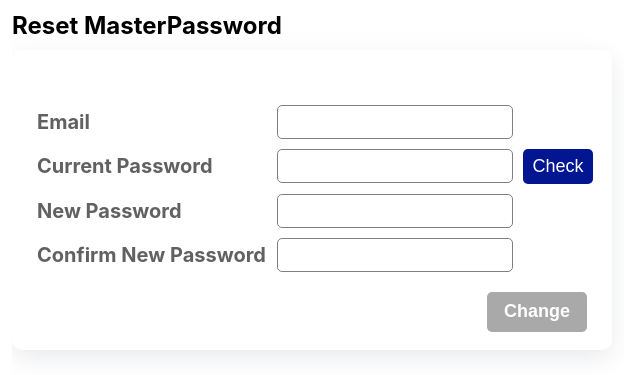
Test: <MasterPassword /> › Fail message should show when currentPassword is not confirmed
Type "test@test.com" into the field in the row of "Email" at (395, 122), box [277,105,513,139]
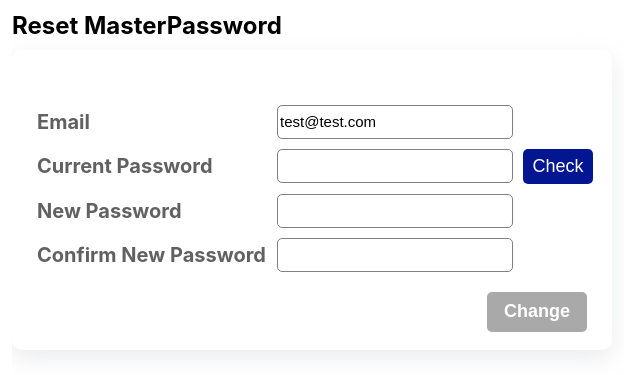
Type "testPassword1" into the field next to "Current Password" at (395, 166), box [277,149,513,183]
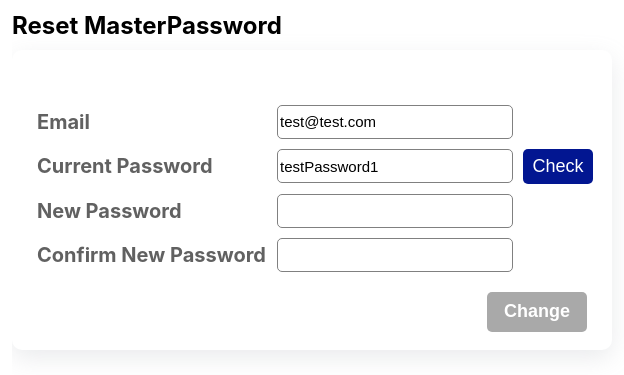
Click the button "Check" at (558, 166), box [523,149,593,184]
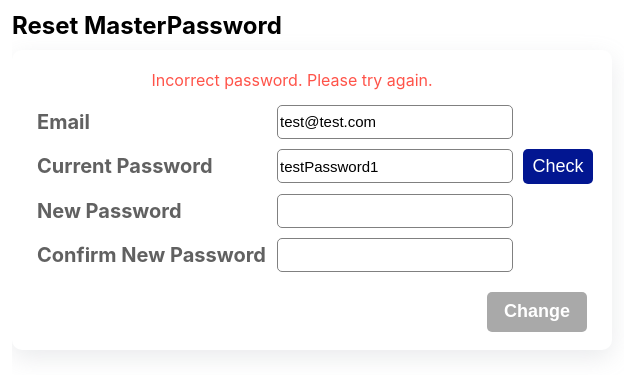
Now the text "Incorrect password. Please try again." is shown, box [151,70,433,90]
